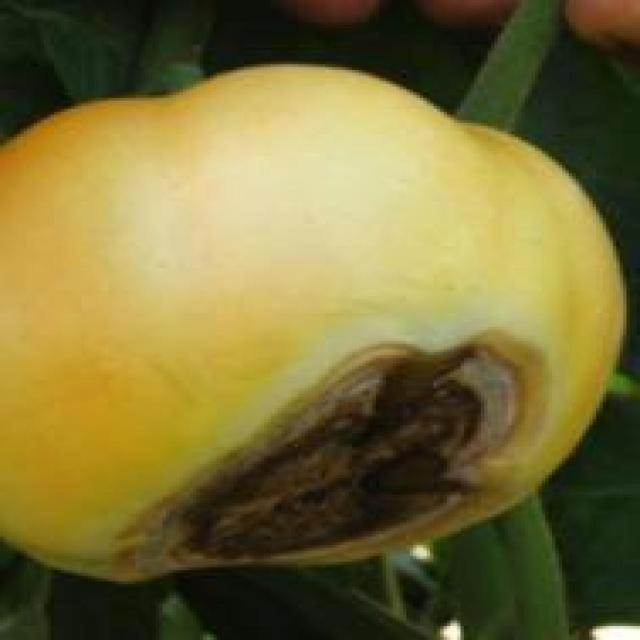Blossom End Rot Fruit: (73, 218, 363, 380)
